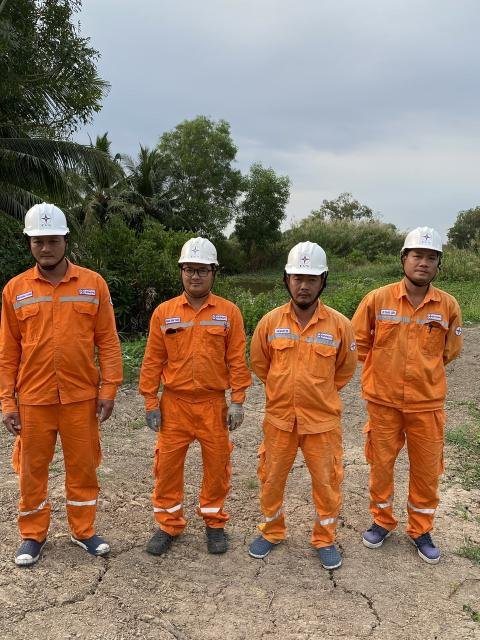gloves: (222, 396, 248, 433), (141, 405, 165, 432)
helmet: (279, 236, 335, 281), (21, 201, 78, 238), (395, 220, 445, 259), (176, 234, 226, 266)
shoes: (406, 524, 448, 570), (358, 508, 399, 555), (6, 531, 54, 570), (63, 526, 114, 561), (243, 529, 281, 565), (205, 518, 232, 563), (310, 541, 347, 573), (146, 524, 178, 556)
